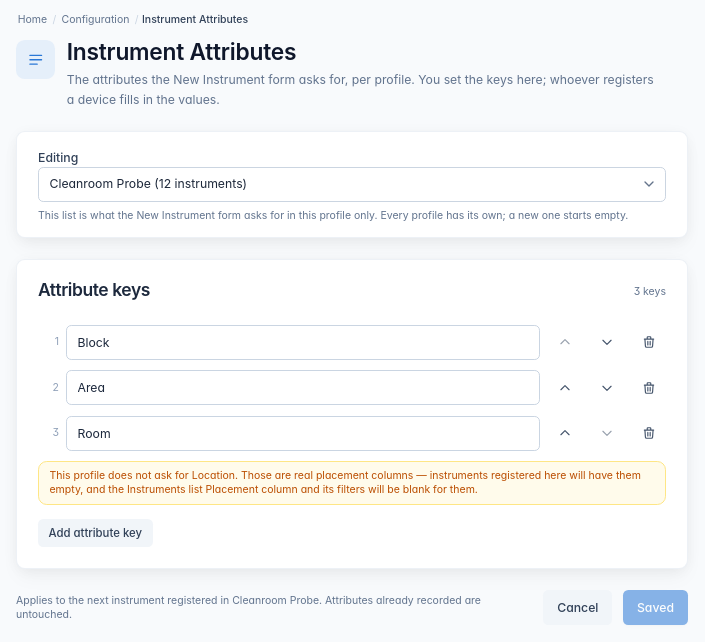
it: InstrumentAttributesConfigPage — placement advisory › warns when a profile omits placement keys
Select "Warehouse Sensors (3 instruments)" in the dropdown labelled "Editing" at (352, 184), box x1=38 y1=167 x2=666 y2=202
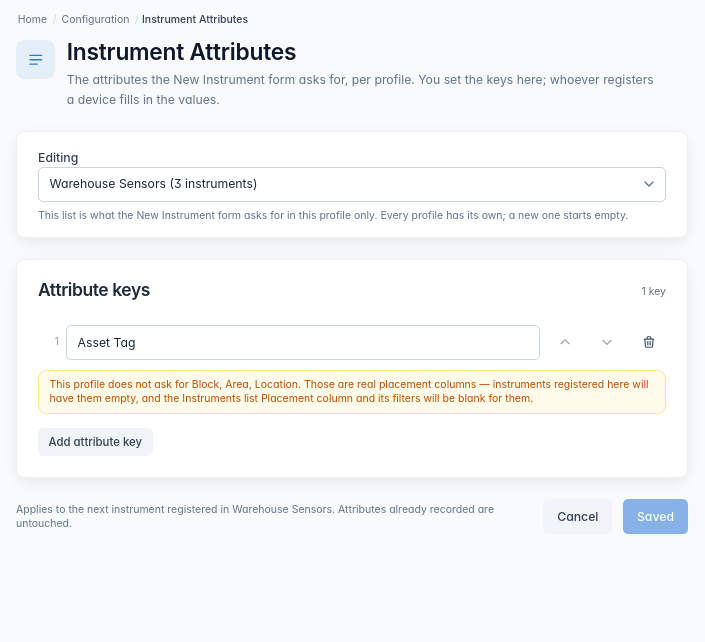
Expected: the text "placement columns" is shown, x1=50 y1=378 x2=648 y2=405
Result: the text "Block, Area, Location" is shown at x1=192 y1=378 x2=298 y2=391
